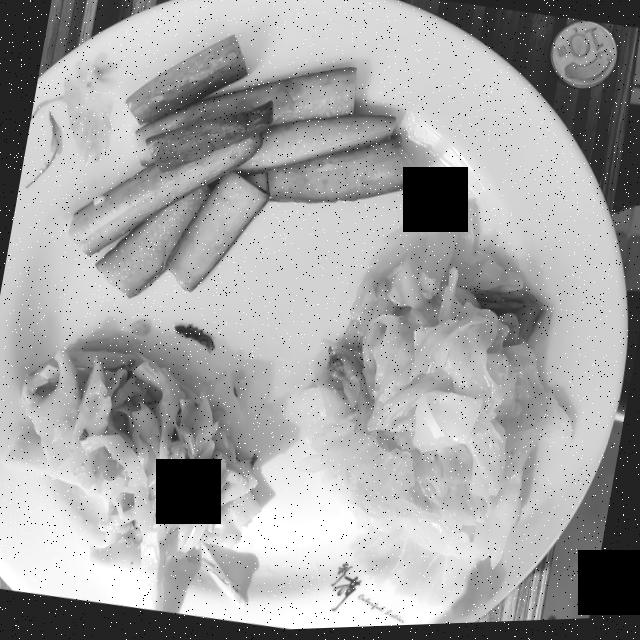cabbage: (300, 204, 571, 569)
coin: (550, 25, 617, 92)
cucumber: (69, 37, 417, 297)
